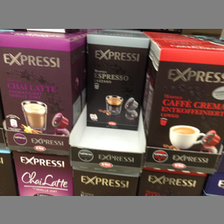coffee: (144, 40, 224, 155), (1, 31, 85, 136), (85, 30, 150, 130)
